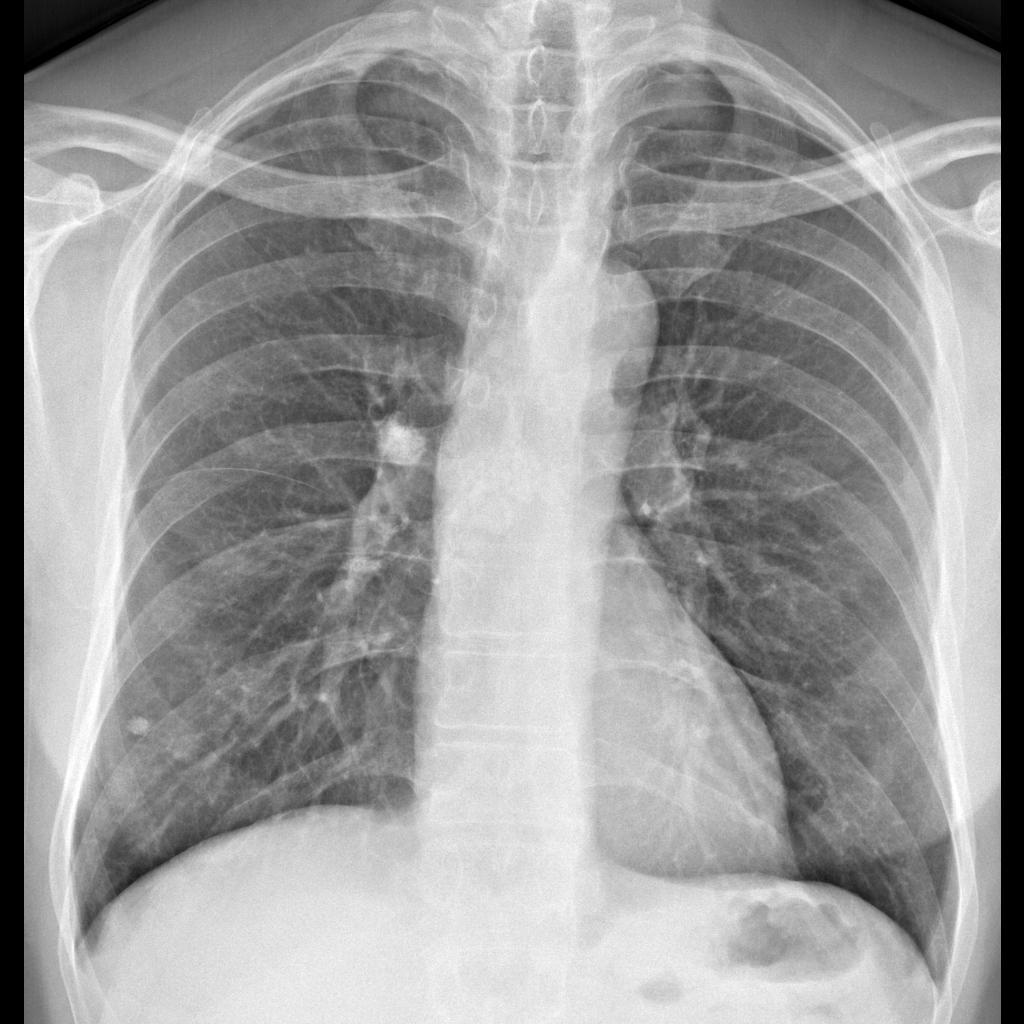Nodule: (369, 414, 430, 475), (116, 708, 161, 748)
